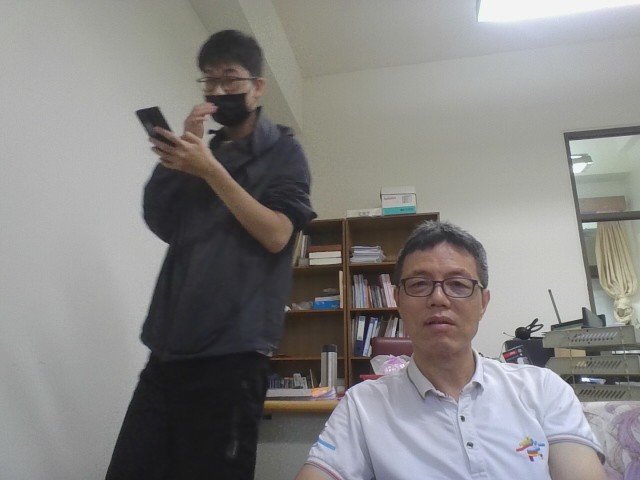No_Gloves: (145, 120, 214, 181), (178, 97, 218, 140)
No_Helmet: (388, 216, 495, 365), (192, 24, 273, 125)
person: (79, 8, 329, 477), (260, 197, 634, 480)
